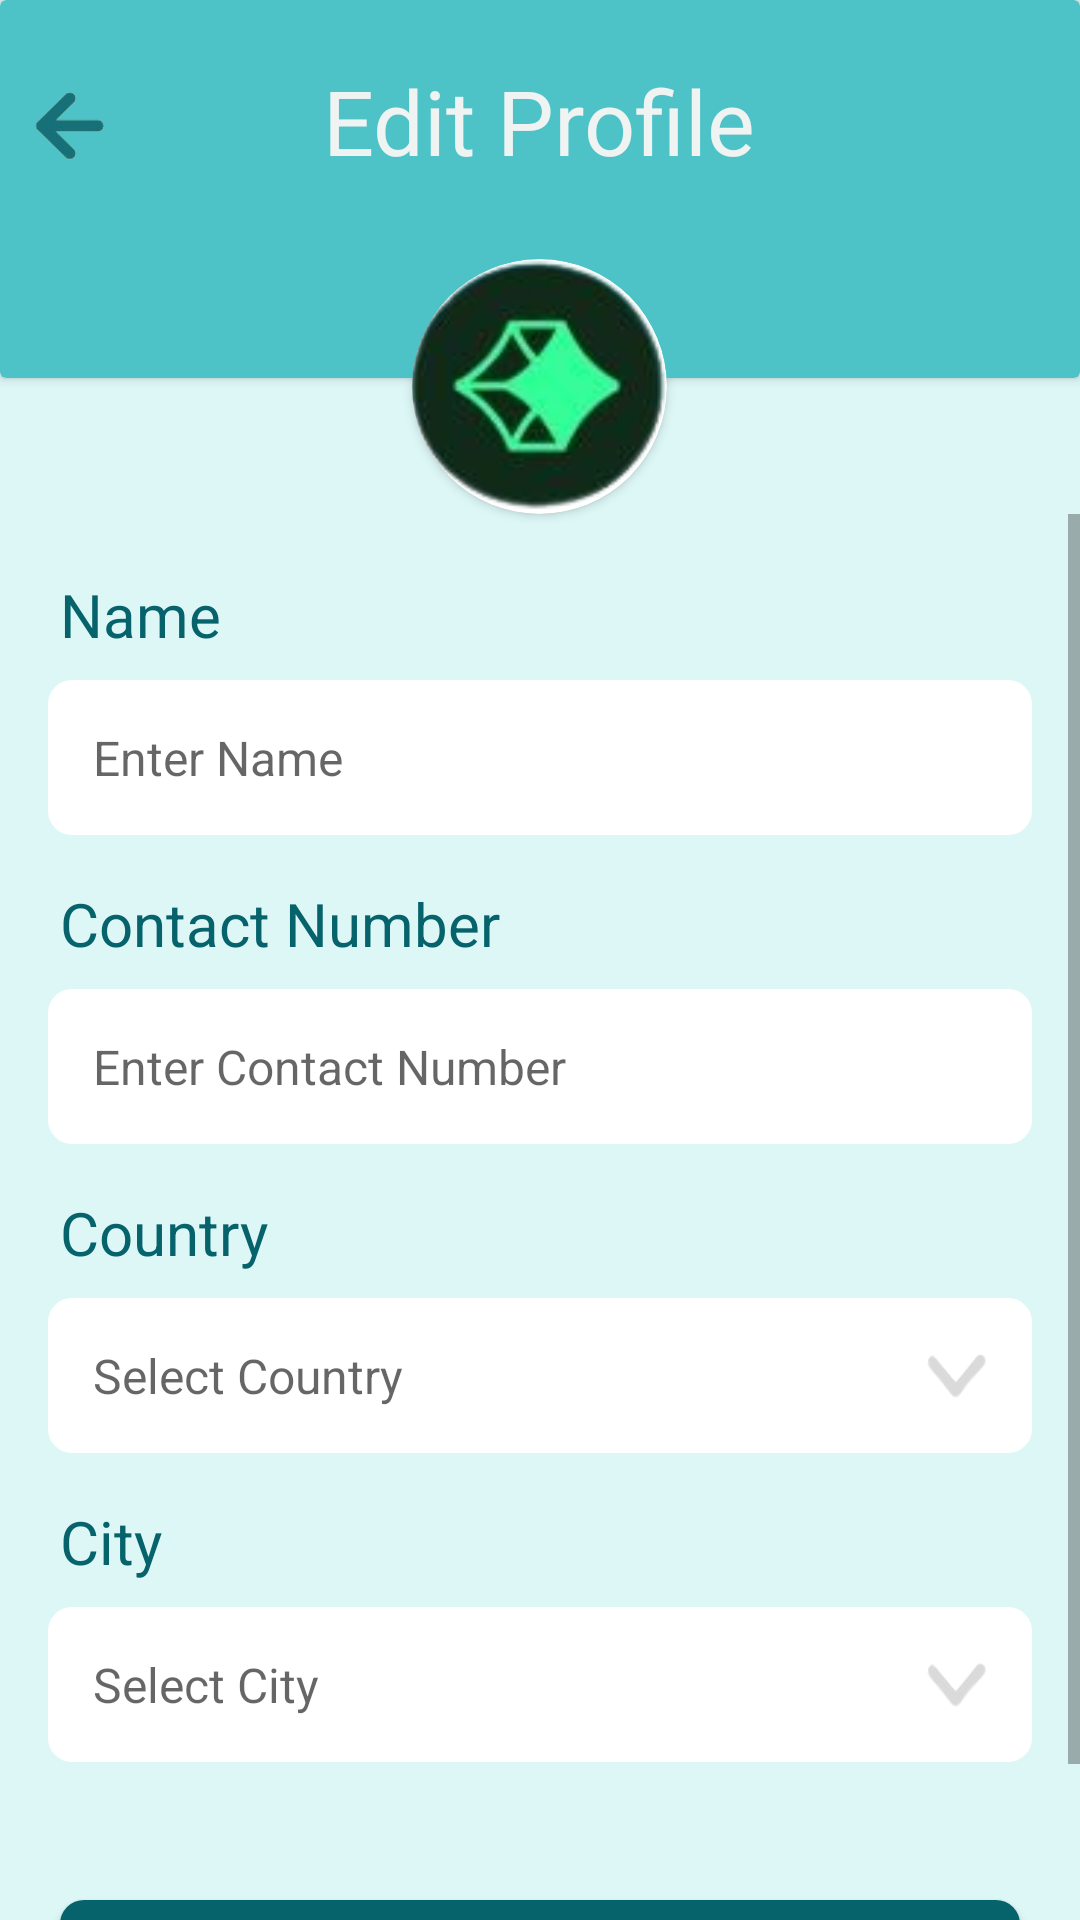

Point at icon controls on the screen. Image size 1080 × 1920, points as (x=x, y=y).
back arrow: (x=70, y=126)
profilepic: (x=539, y=386)
